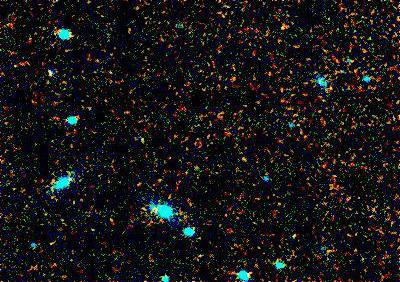star: (270, 10, 300, 40)
